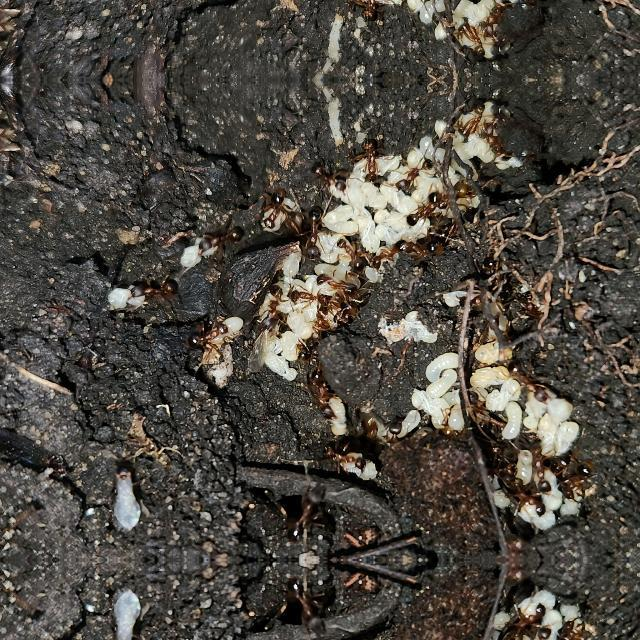Apheanogaster: (102, 457, 156, 531), (275, 482, 331, 548), (275, 572, 331, 638), (502, 358, 560, 408), (102, 588, 154, 640), (290, 204, 332, 266), (300, 366, 346, 420), (496, 472, 548, 518), (314, 438, 374, 476), (120, 272, 183, 308), (182, 315, 240, 353), (461, 387, 511, 431), (348, 136, 388, 188), (496, 600, 548, 640), (422, 171, 476, 209), (190, 223, 248, 257), (253, 186, 294, 234), (400, 188, 450, 226), (254, 282, 292, 332), (391, 156, 437, 196), (474, 422, 516, 464), (556, 462, 598, 501), (454, 96, 491, 140), (310, 160, 352, 198), (454, 21, 491, 64), (333, 232, 371, 272), (478, 125, 516, 164), (396, 235, 446, 261), (336, 289, 370, 327), (477, 0, 514, 34), (486, 534, 534, 560), (314, 272, 362, 298), (486, 560, 534, 586), (367, 236, 403, 270), (377, 419, 409, 456), (293, 334, 327, 368), (476, 234, 506, 272), (348, 0, 387, 24), (556, 618, 598, 640)
